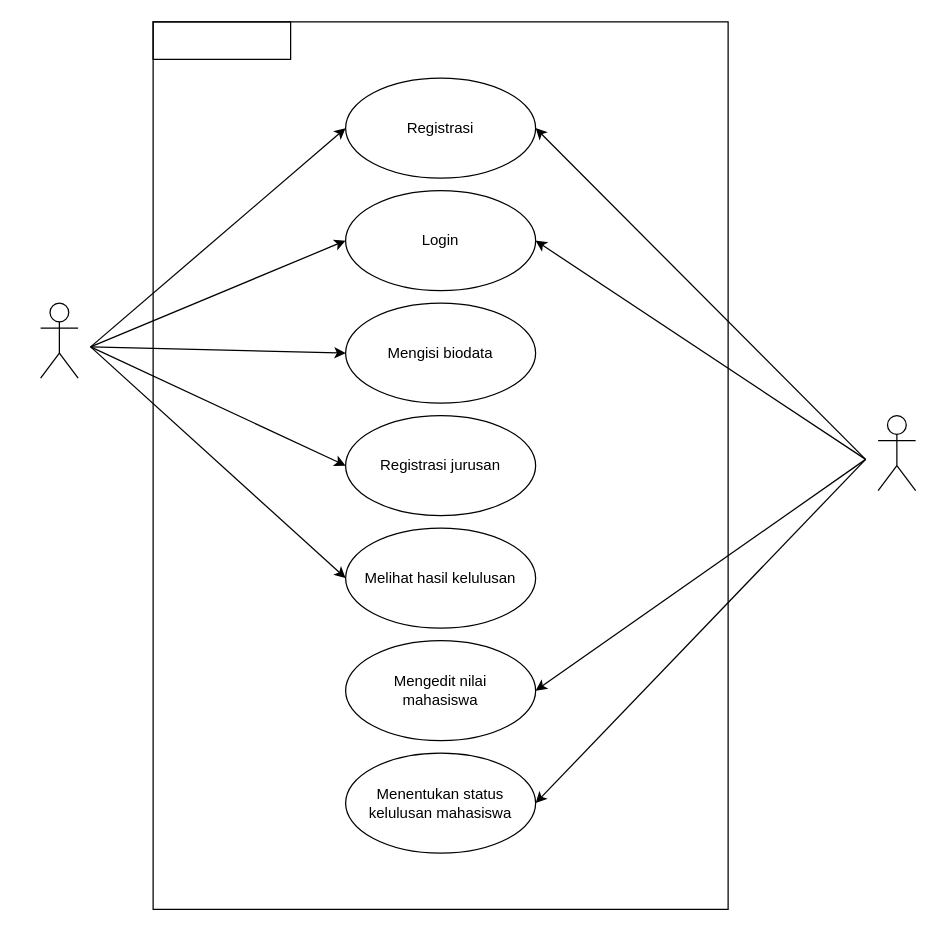
The diagram is 939 pixels wide and 931 high, and some of its shapes have lost their labels. The shapes that lost their labels are listed below. From the top down, each one's centre as x and y in pixels, then its label:
(221,40): Seleksi Mahasiswa
(58,340): Mahasiswa
(896,452): Admin
